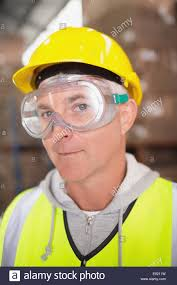Person_wearing_helmet: (19, 26, 145, 128)
